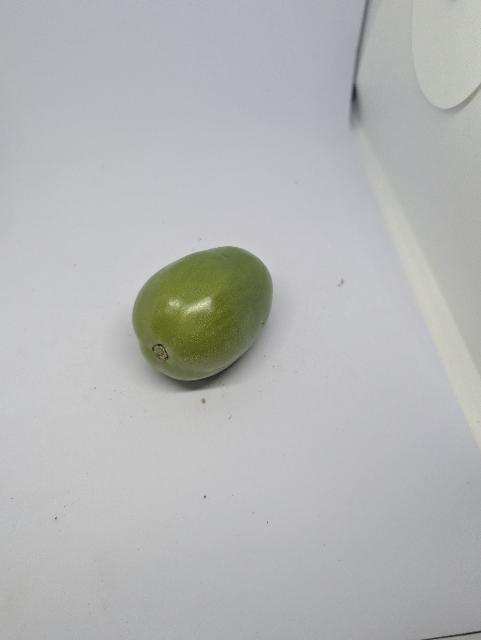green: (115, 231, 303, 391)
